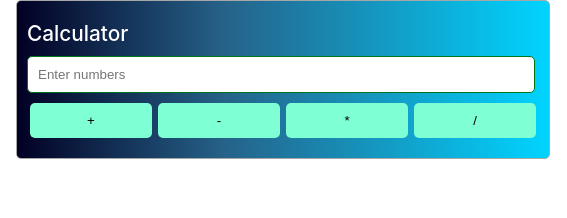
it: Calculator Component › displays error message for negative numbers
The image size is (567, 218).
Type "1,-2,3,-4" into the field with placeholder "Enter numbers".
click(281, 74); type("1,-2,3,-4")  # box [27, 56, 535, 93]
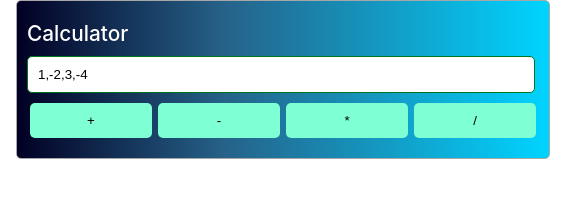
Click the button "+".
click(91, 120)  # box [30, 103, 152, 138]
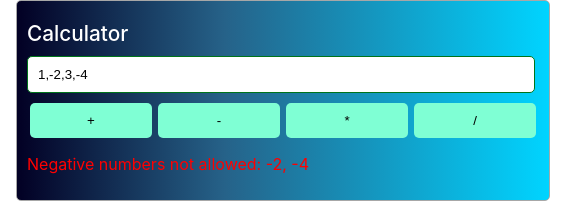
Result: the text "Negative numbers not allowed: -2, -4" is shown at [27, 154, 309, 174]
